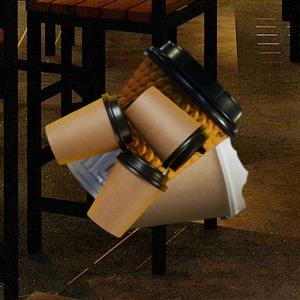cup: (89, 149, 168, 239), (124, 86, 205, 170), (44, 93, 132, 166)
